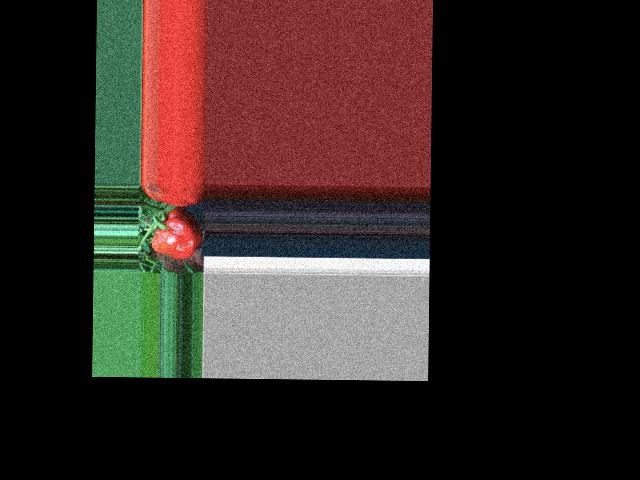bell_pepper: (147, 208, 205, 257)
